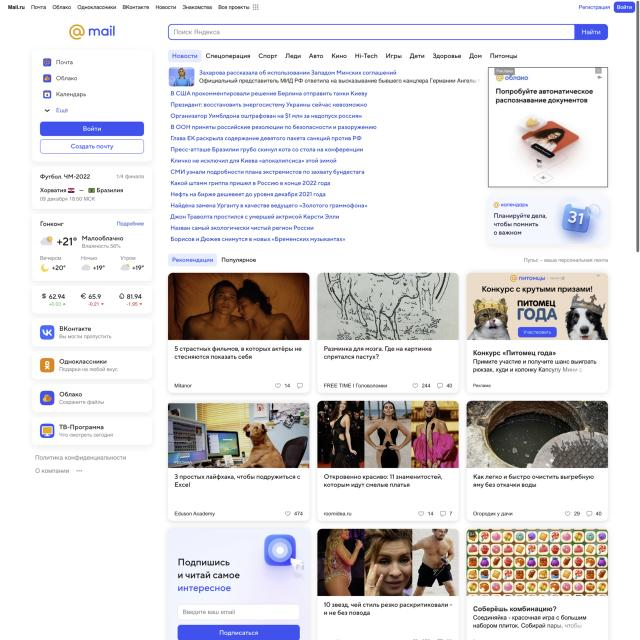content: (169, 90, 379, 246)
input: (168, 24, 608, 40), (178, 604, 300, 620)
logo: (62, 20, 121, 42)
navigation: (167, 50, 520, 61), (5, 1, 262, 13)
